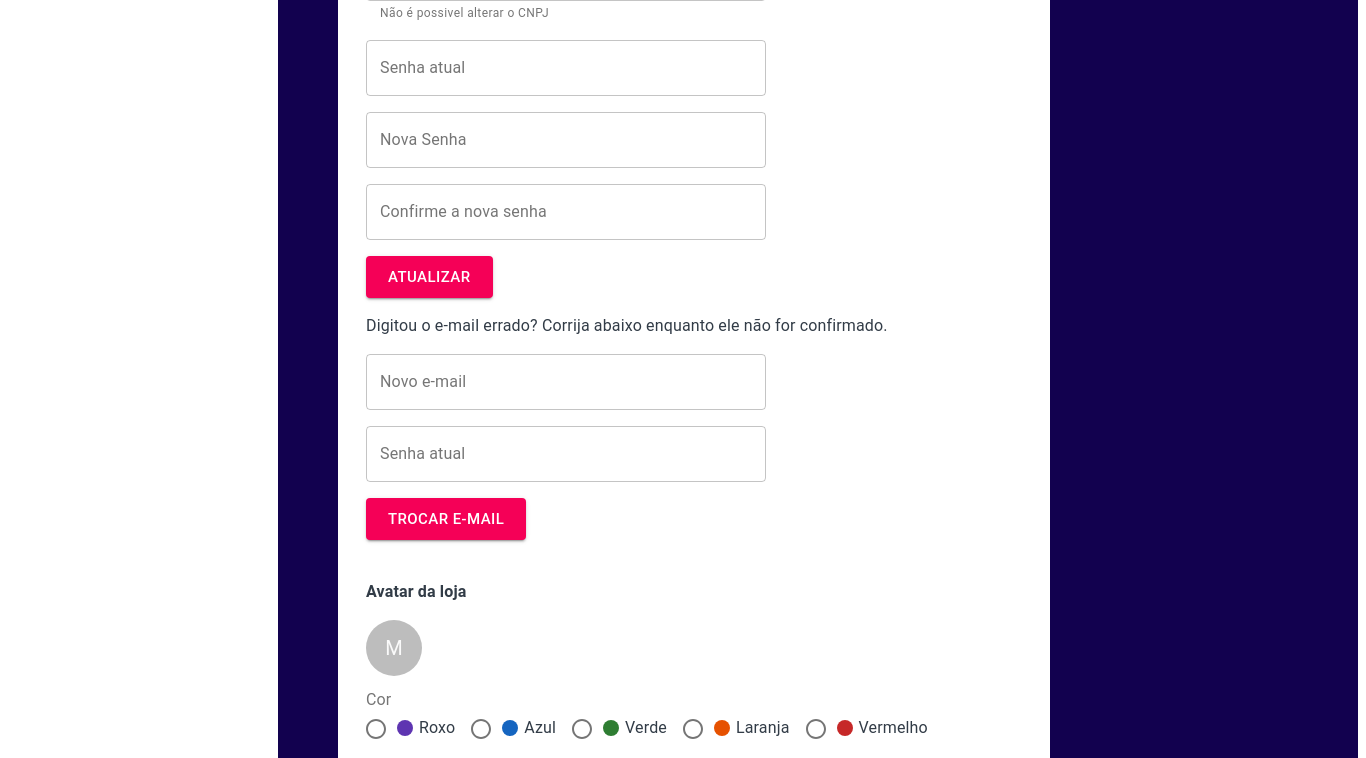
Scenario: E-mail da conta no Perfil › e-mail de outra conta (409): mostra a mensagem, esvazia só a senha e não expira a sessão
(page scrolled)
Type "outra@modaazul.com" into the field labelled "Novo e-mail" at (566, 382), box [366,354,766,410]
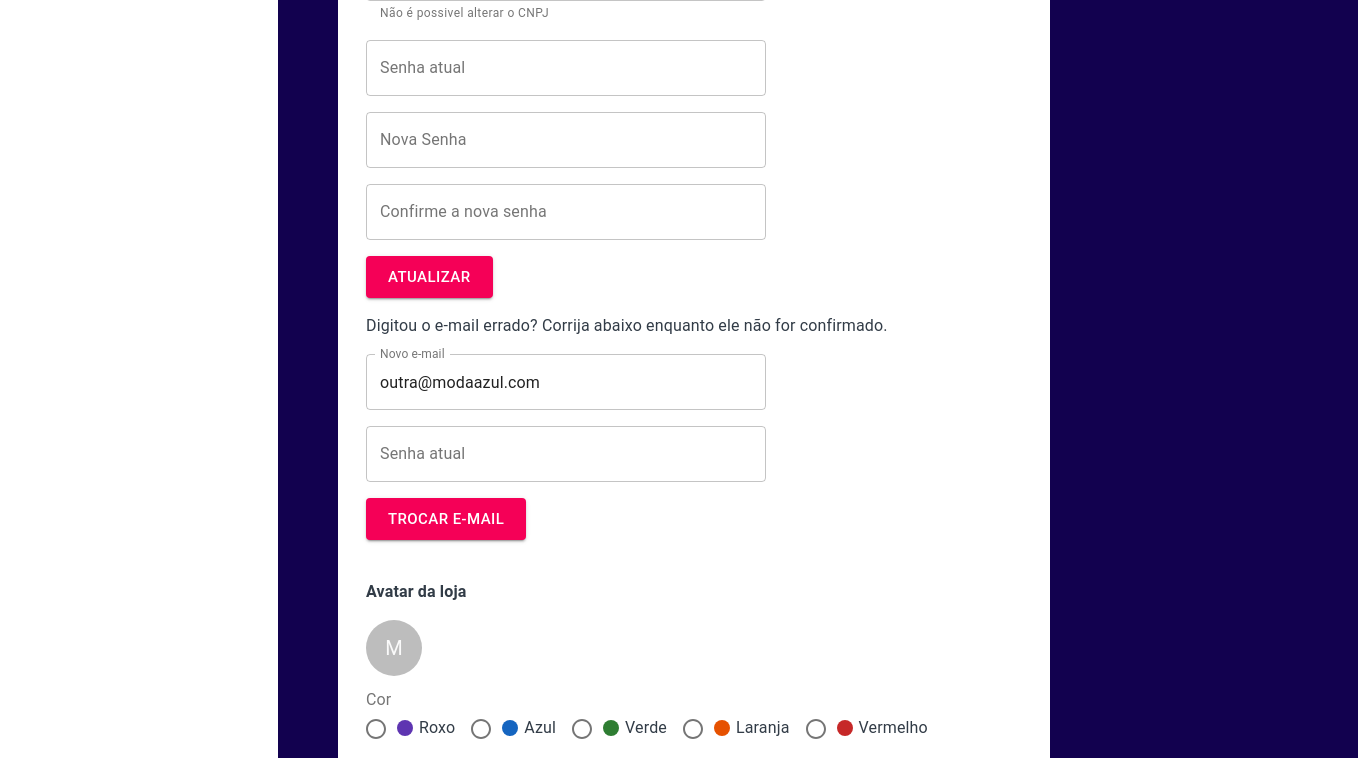
Type "senha-atual-1" into the password field labelled "Senha atual" below "Novo e-mail" at (566, 454), box [366,426,766,482]
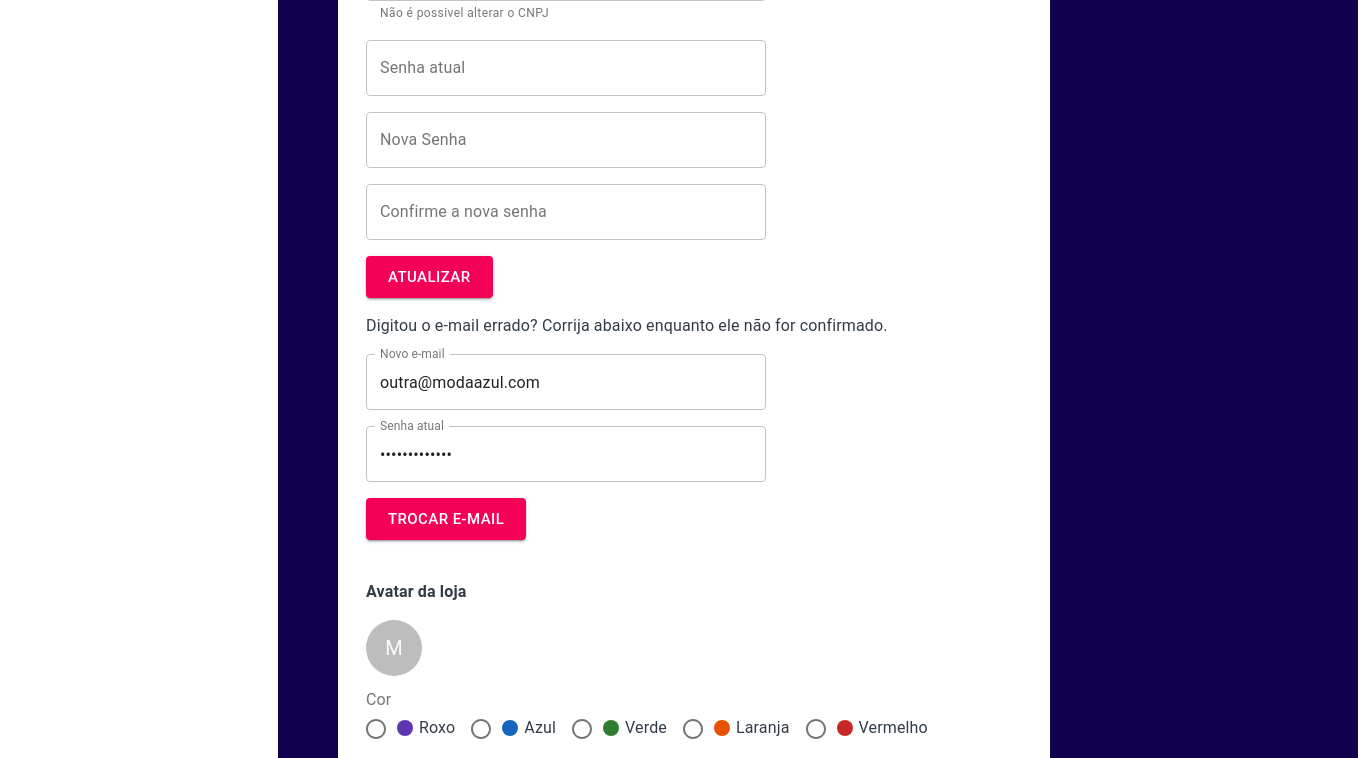
Submit the form named "Trocar e-mail", box [366,316,888,540]
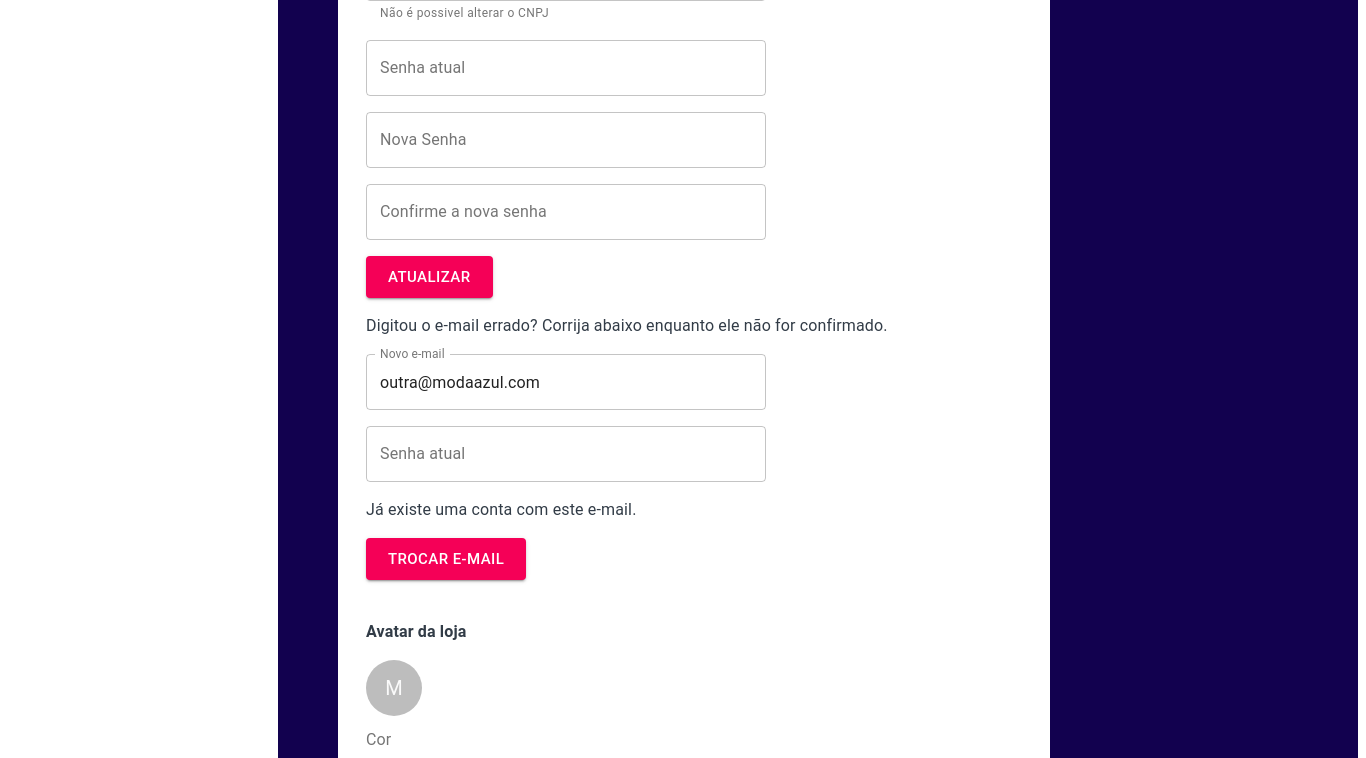
Expected: the text "Já existe uma conta com este e-mail." is shown, [366,500,636,519]
Expected: the password field labelled "Senha atual" below "Novo e-mail" is empty, [366,426,766,482]
